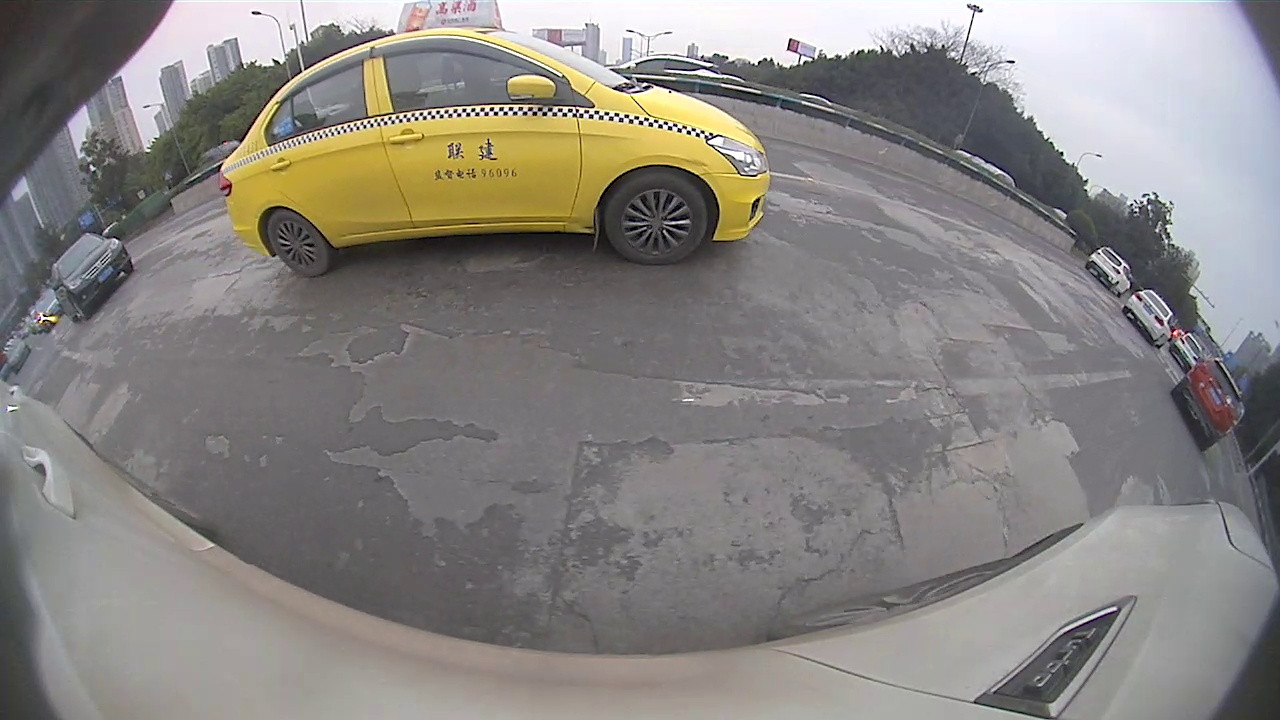car: (218, 1, 769, 279), (50, 234, 134, 323), (1173, 356, 1243, 452), (1123, 290, 1175, 348), (1086, 248, 1132, 297), (1169, 330, 1204, 373), (32, 299, 70, 331)
front: (601, 173, 709, 267)
rear: (267, 207, 331, 277)
